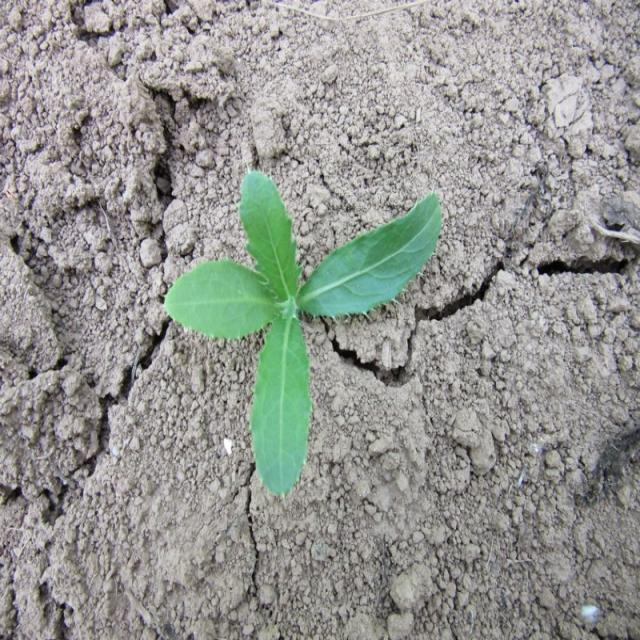field_thistle: (166, 134, 452, 490)
